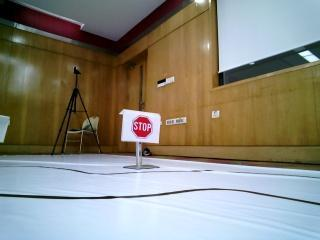stop: (122, 104, 152, 143)
